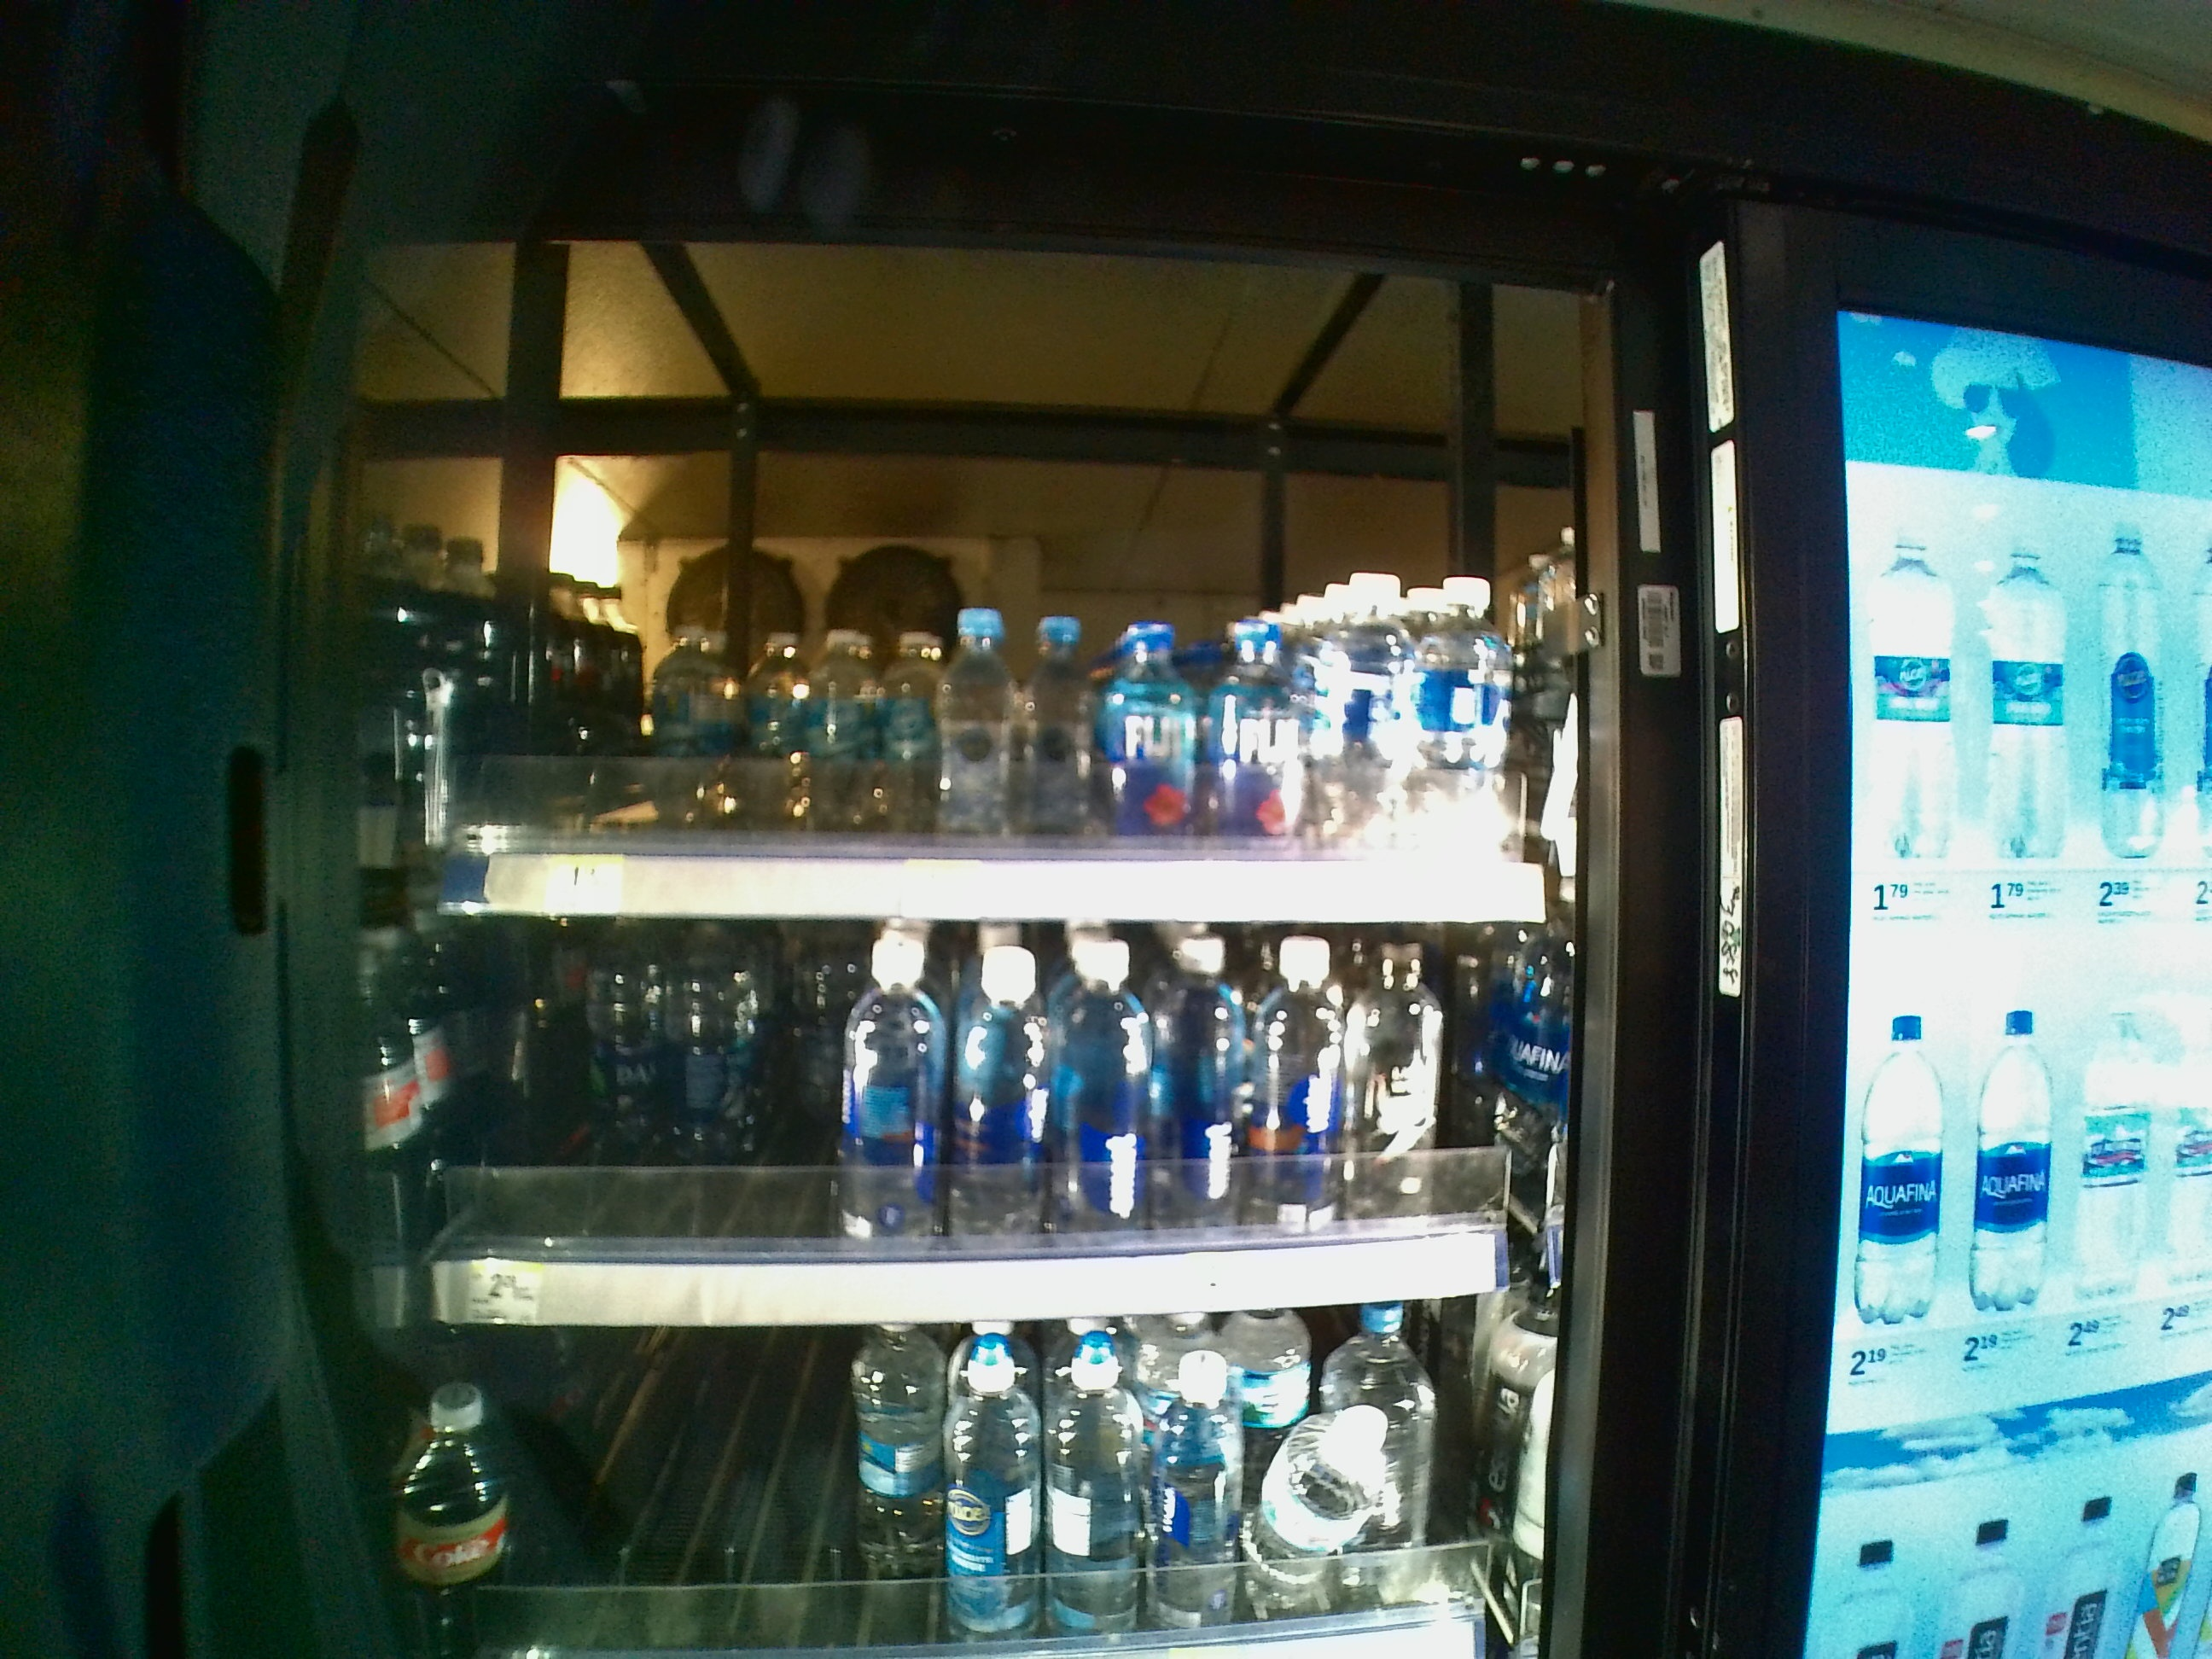shelf: (404, 410, 1583, 922), (404, 927, 1581, 1331)
